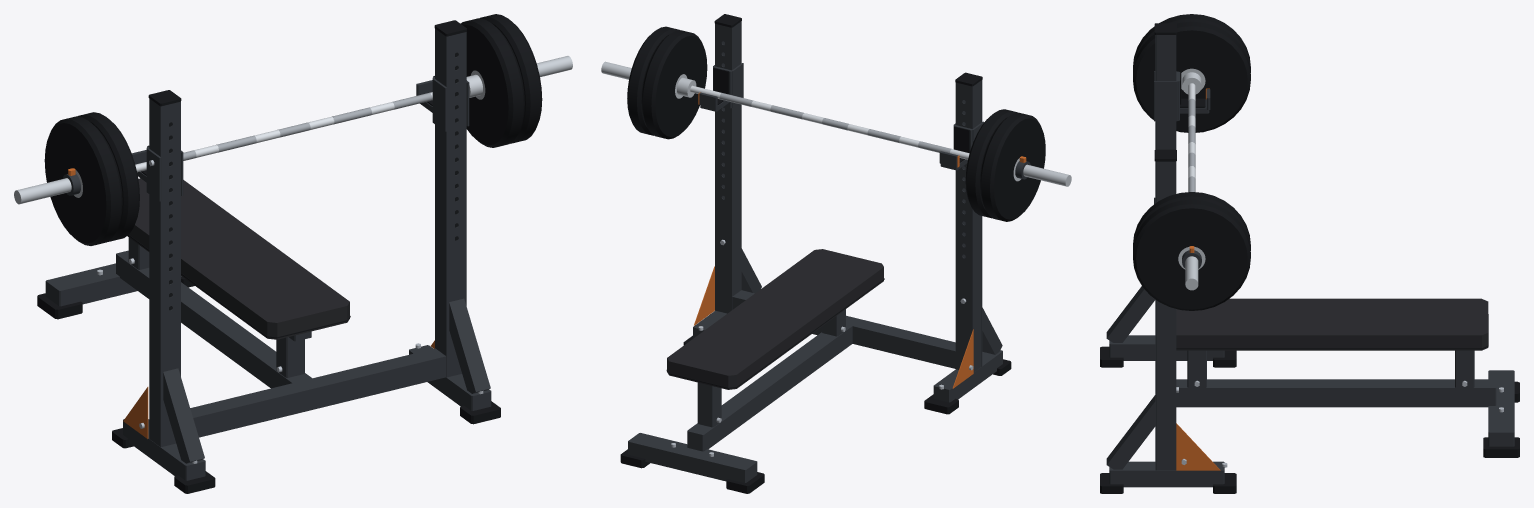
File: olympic-bench.glb
The picture shows the model from 3 angles, left to right: view 1: azimuth 30°, elevation 25°; view 2: azimuth 150°, elevation 25°; view 3: azimuth 270°, elevation 25°; orthographic projection. The views are drawn at different scales.
Parts seen in each view (by area): view 1: Graphite frame parts, Black plates feet and liners parts, Continuous black flat pad parts, Steel sleeves and hubs parts, Bar knurling parts, Silver bar shaft parts, Burnt orange details parts; view 2: Graphite frame parts, Black plates feet and liners parts, Continuous black flat pad parts, Steel sleeves and hubs parts, Bar knurling parts, Burnt orange details parts, Silver bar shaft parts; view 3: Graphite frame parts, Black plates feet and liners parts, Continuous black flat pad parts, Burnt orange details parts, Steel sleeves and hubs parts, Bar knurling parts.
Boxes of the visible parts, x1=… form: Graphite frame parts: x1=45, y1=29, x2=491, y2=480; Black plates feet and liners parts: x1=37, y1=14, x2=542, y2=493; Continuous black flat pad parts: x1=127, y1=178, x2=349, y2=339; Steel sleeves and hubs parts: x1=14, y1=56, x2=572, y2=204; Bar knurling parts: x1=183, y1=92, x2=432, y2=160; Silver bar shaft parts: x1=135, y1=92, x2=432, y2=172; Burnt orange details parts: x1=68, y1=168, x2=434, y2=438; Graphite frame parts: x1=628, y1=21, x2=1030, y2=482; Black plates feet and liners parts: x1=620, y1=14, x2=1045, y2=493; Continuous black flat pad parts: x1=667, y1=249, x2=883, y2=389; Steel sleeves and hubs parts: x1=601, y1=61, x2=1071, y2=186; Bar knurling parts: x1=719, y1=93, x2=951, y2=153; Burnt orange details parts: x1=694, y1=92, x2=1026, y2=388; Silver bar shaft parts: x1=690, y1=85, x2=969, y2=159; Graphite frame parts: x1=1106, y1=35, x2=1514, y2=487; Black plates feet and liners parts: x1=1100, y1=14, x2=1519, y2=493; Continuous black flat pad parts: x1=1176, y1=298, x2=1488, y2=350; Burnt orange details parts: x1=1176, y1=88, x2=1220, y2=470; Steel sleeves and hubs parts: x1=1178, y1=68, x2=1205, y2=290; Bar knurling parts: x1=1188, y1=98, x2=1195, y2=191.
Size of the model in its own units: 2.2 by 1.4 by 1.6.
